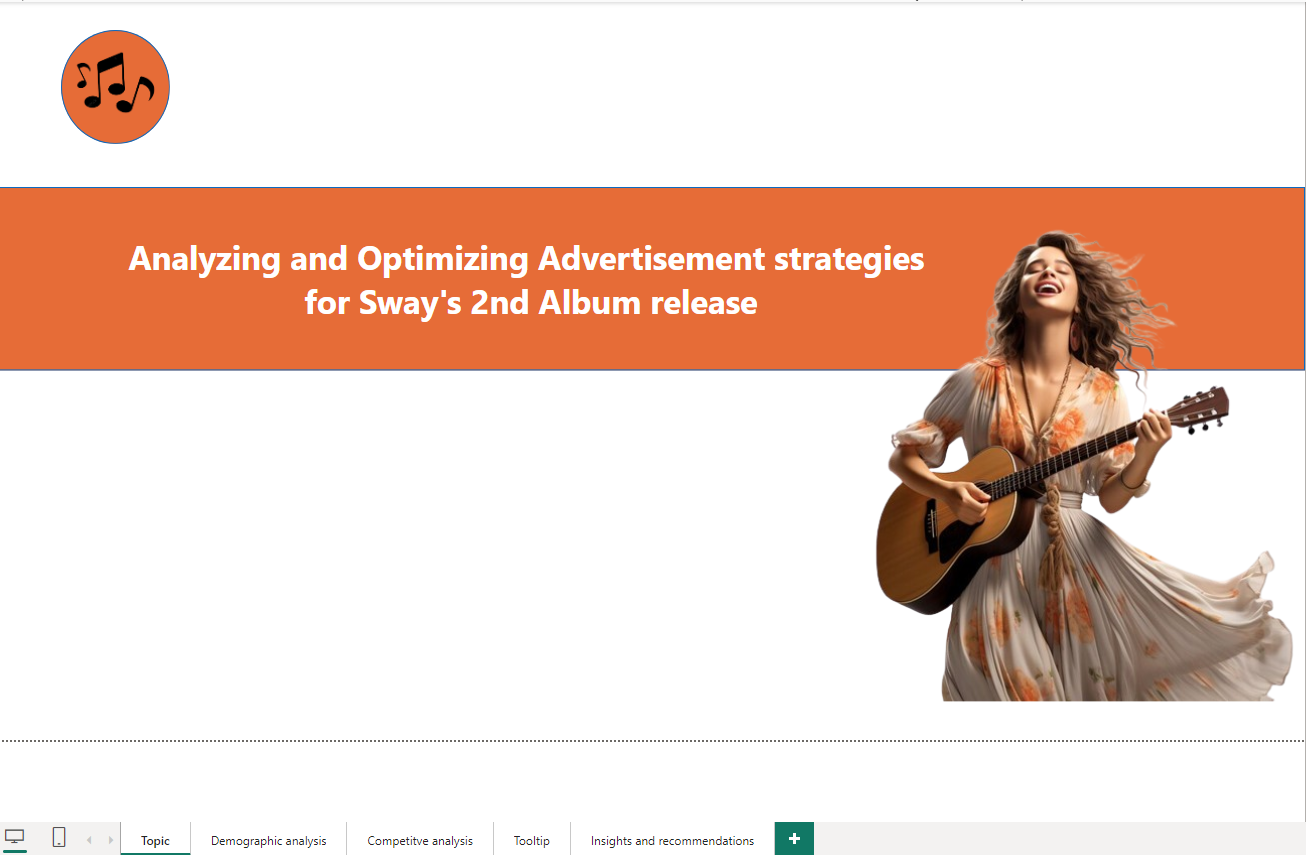

Layout of this report page (visuals, bound fields, positions):
{"tool":"powerbi","page":{"name":"Topic","canvas":[1280,720],"ordinal":0},"visuals":[{"type":"shape","box":[0,180.9,1280,179],"z":0},{"type":"textbox","box":[0,221.5,1049.8,138.5],"z":1000},{"type":"shape","box":[66.3,27.3,106.3,111.2],"z":2000},{"type":"image","box":[54.6,17.6,129.8,130.7],"z":3000},{"type":"image","box":[780.5,187.3,499.5,499.5],"z":4000}]}

Visuals, with their boxes on the page's 1280x720 design canvas (x1, y1, x2, y2). These are canvas units, not pixel positions in the 1306x855 screenshot, which may show the page scaled, cropped or inside an application window:
shape: [0, 181, 1280, 360]
textbox: [0, 222, 1050, 360]
shape: [66, 27, 173, 138]
image: [55, 18, 184, 148]
image: [780, 187, 1280, 687]
